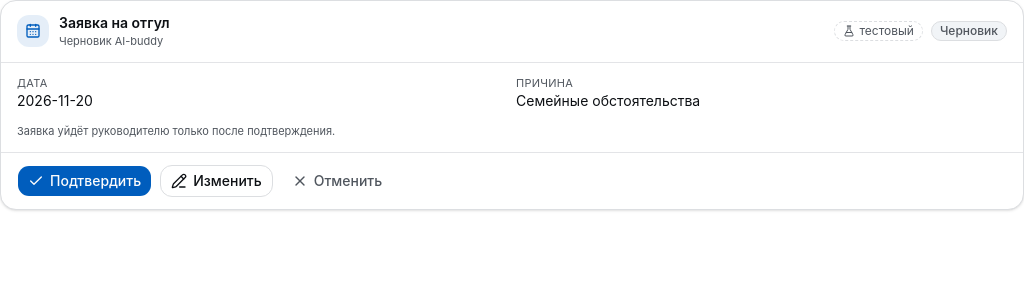
it: карточка действия › повторяет подтверждение с тем же Idempotency-Key
Later steps or results of the test are not shown.
Click the button "Подтвердить" at (85, 180), box [17,164,152,196]
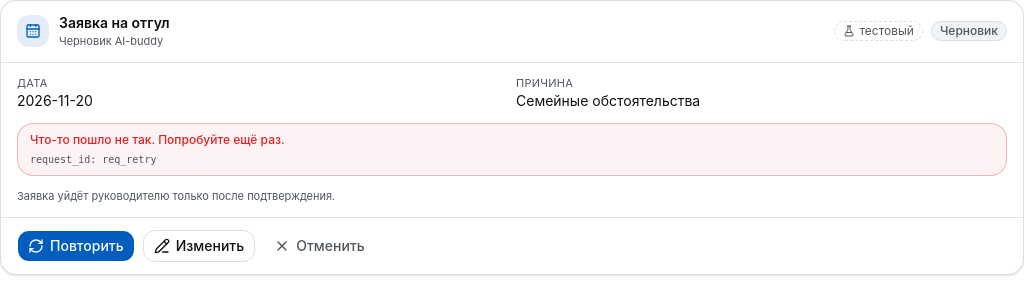
Now the message "Что-то пошло не так. Попробуйте ещё раз. request_id: req_retry" is shown, box [17,123,1007,176]
